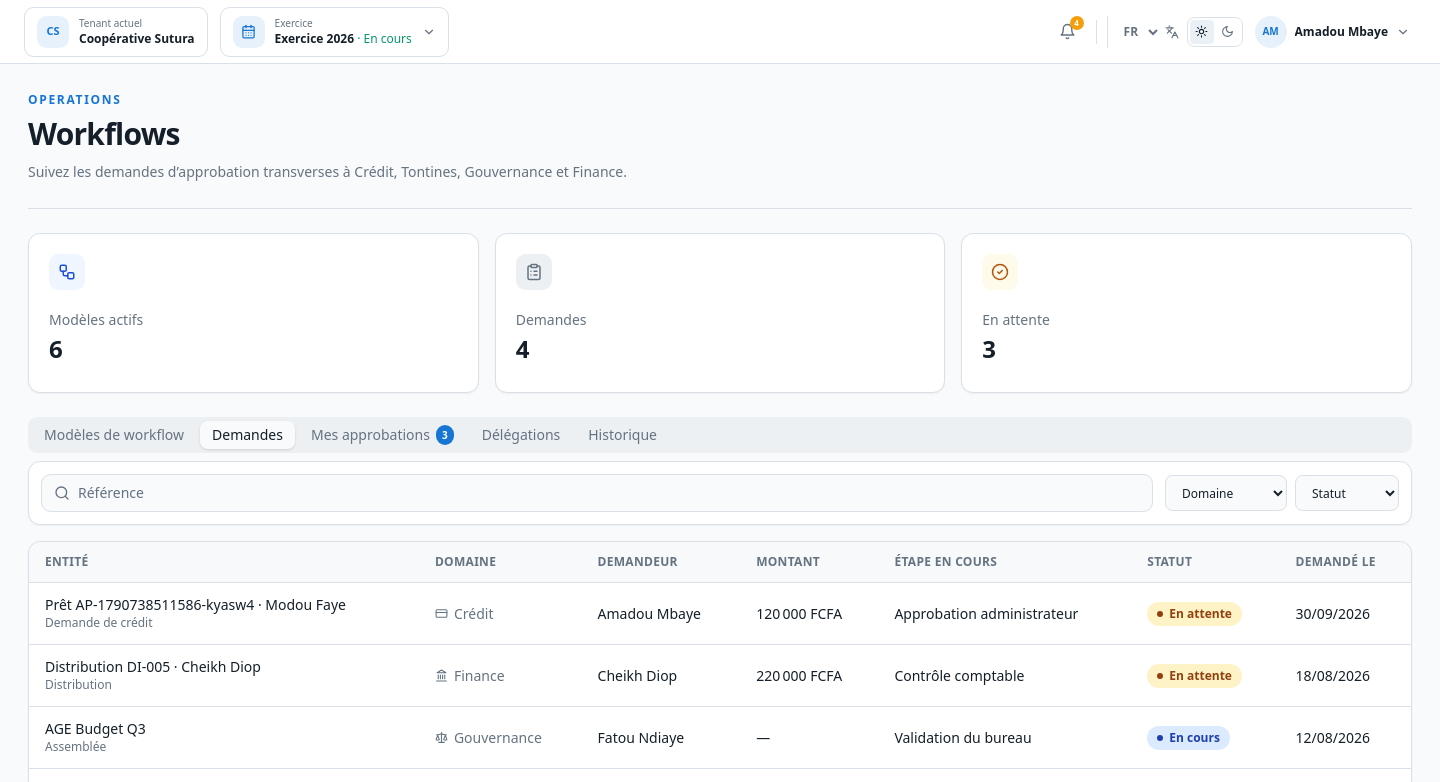
Test case: Demande de prêt → « Mes approbations » de l’approbateur habilité › changement d’identité SANS invalidation atteignant le cache (constaté en navigateur après HMR) : « Mes approbations » suit l’utilisateur
Click the tab "Mes approbations 3" at (382, 435), box [299,421,466,449]
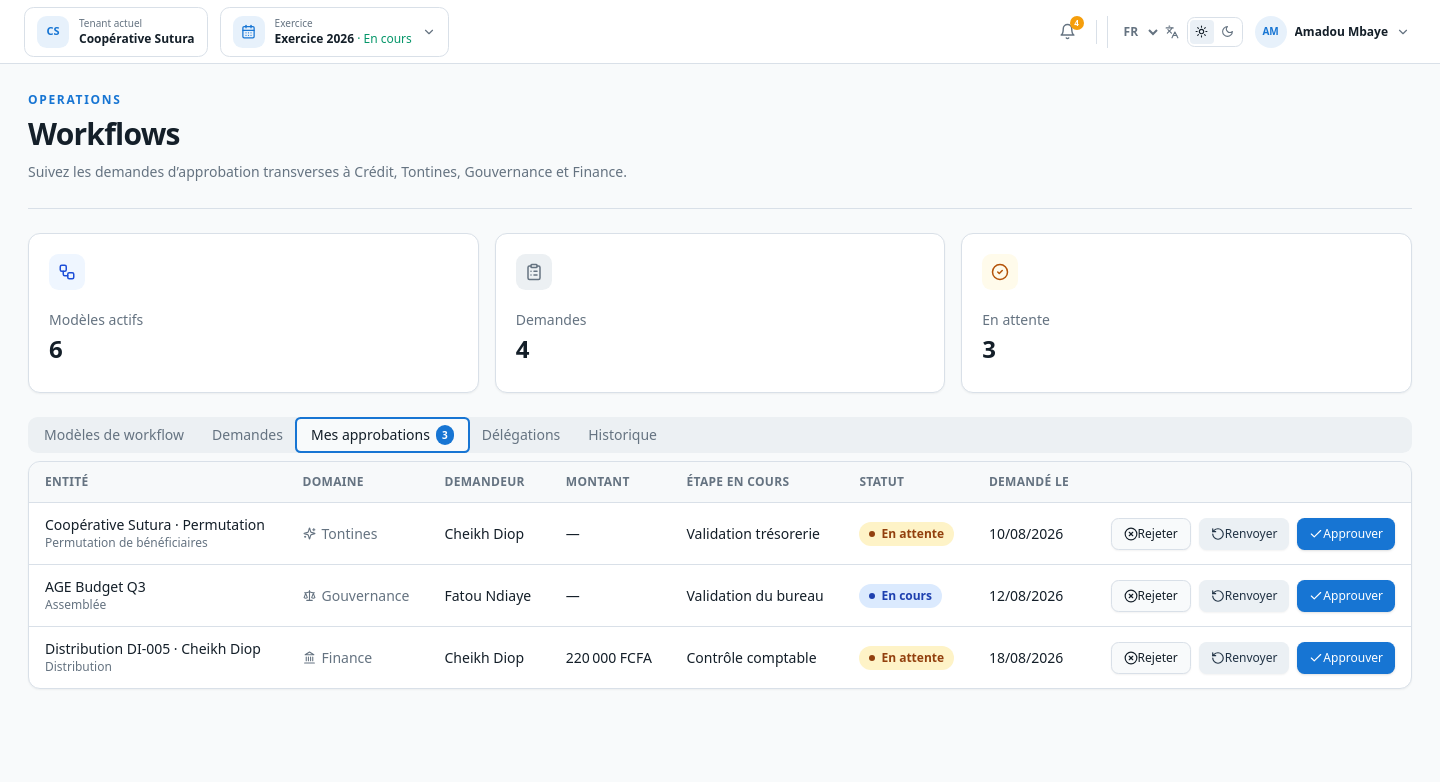
Click the button with aria-label "Menu utilisateur" at (1332, 32), box [1249,10,1416,54]
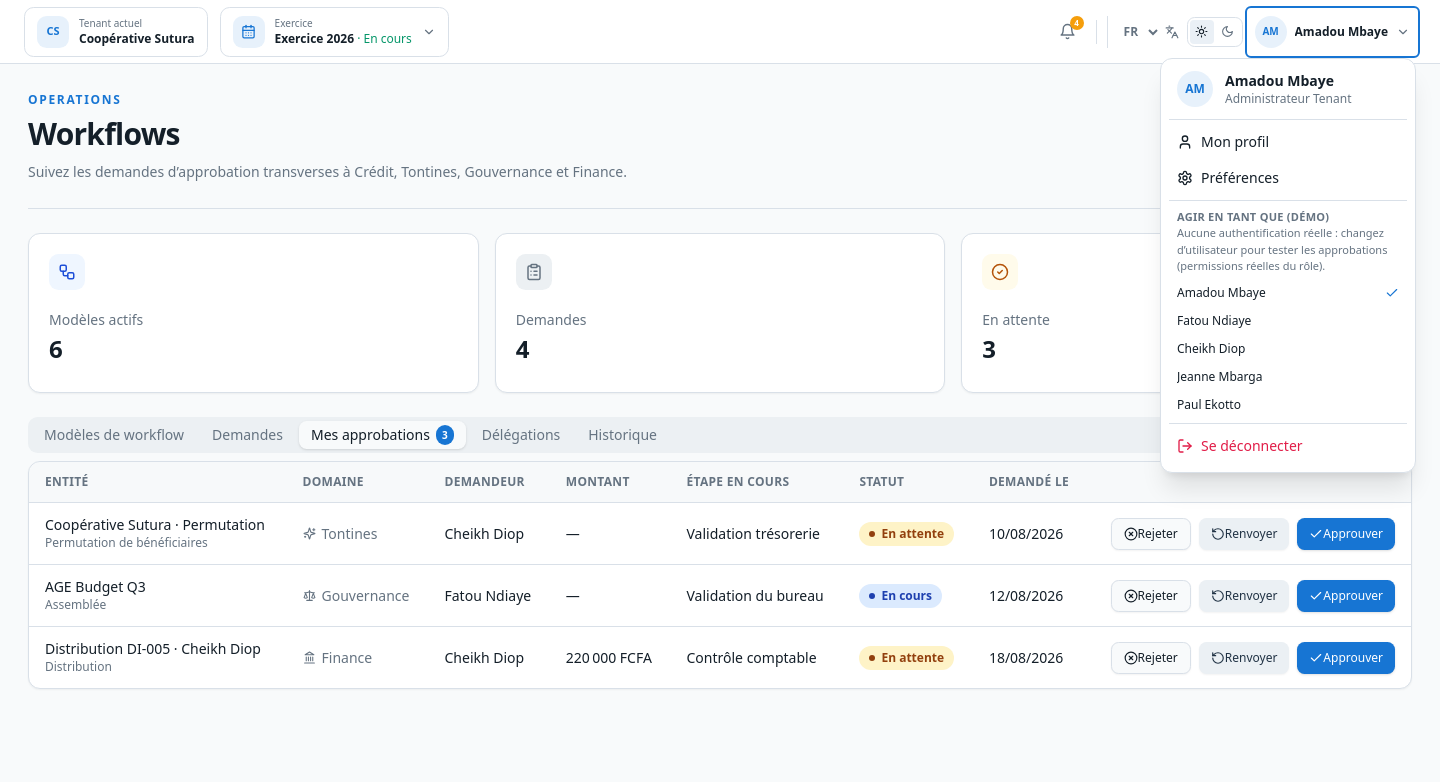
Click the button "Jeanne Mbarga" at (1288, 376), box [1169,362,1407,390]
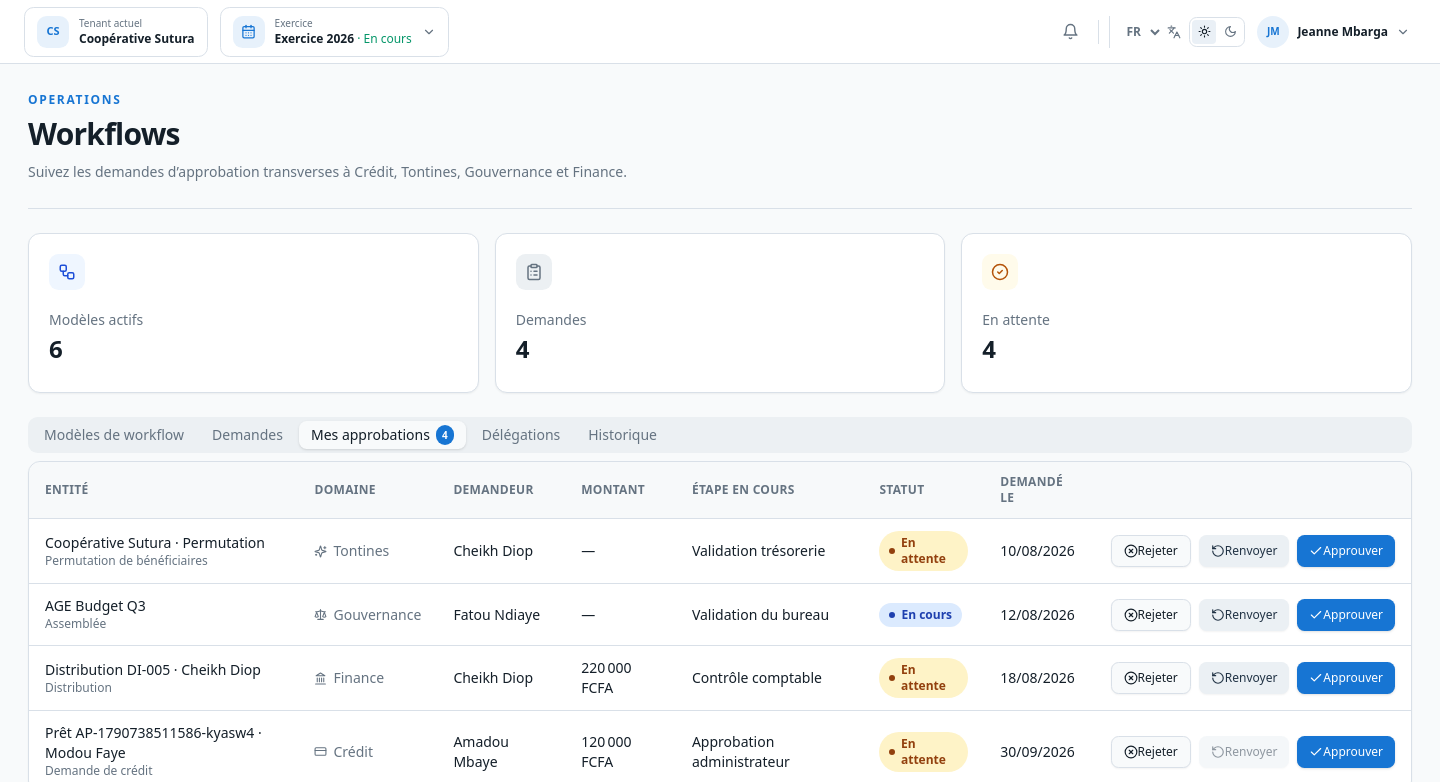
Now the tab "Mes approbations 4" is selected, box [299,421,466,449]
Click the button with aria-label "Menu utilisateur" at (1334, 32), box [1251,10,1416,54]
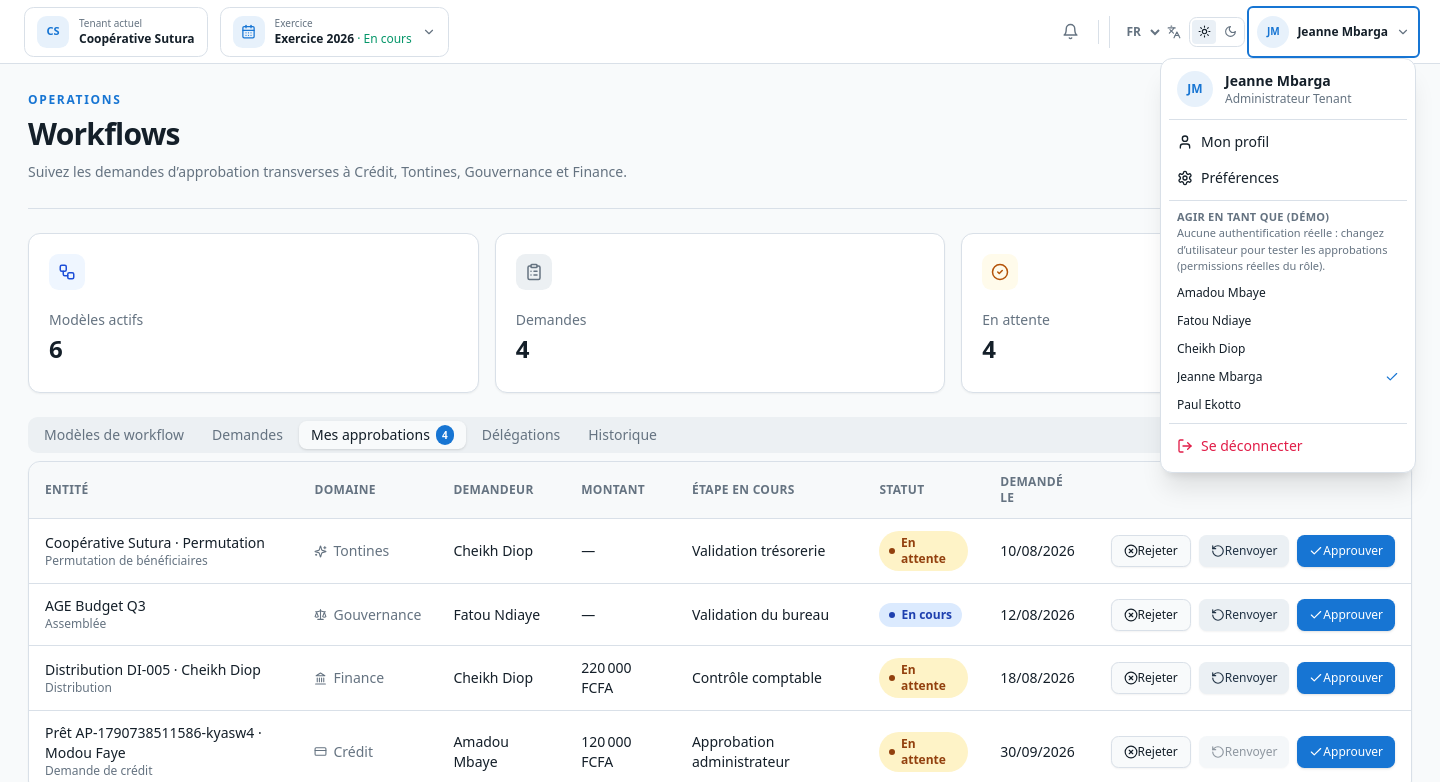
Click the button "Amadou Mbaye" at (1288, 292), box [1169,278,1407,306]
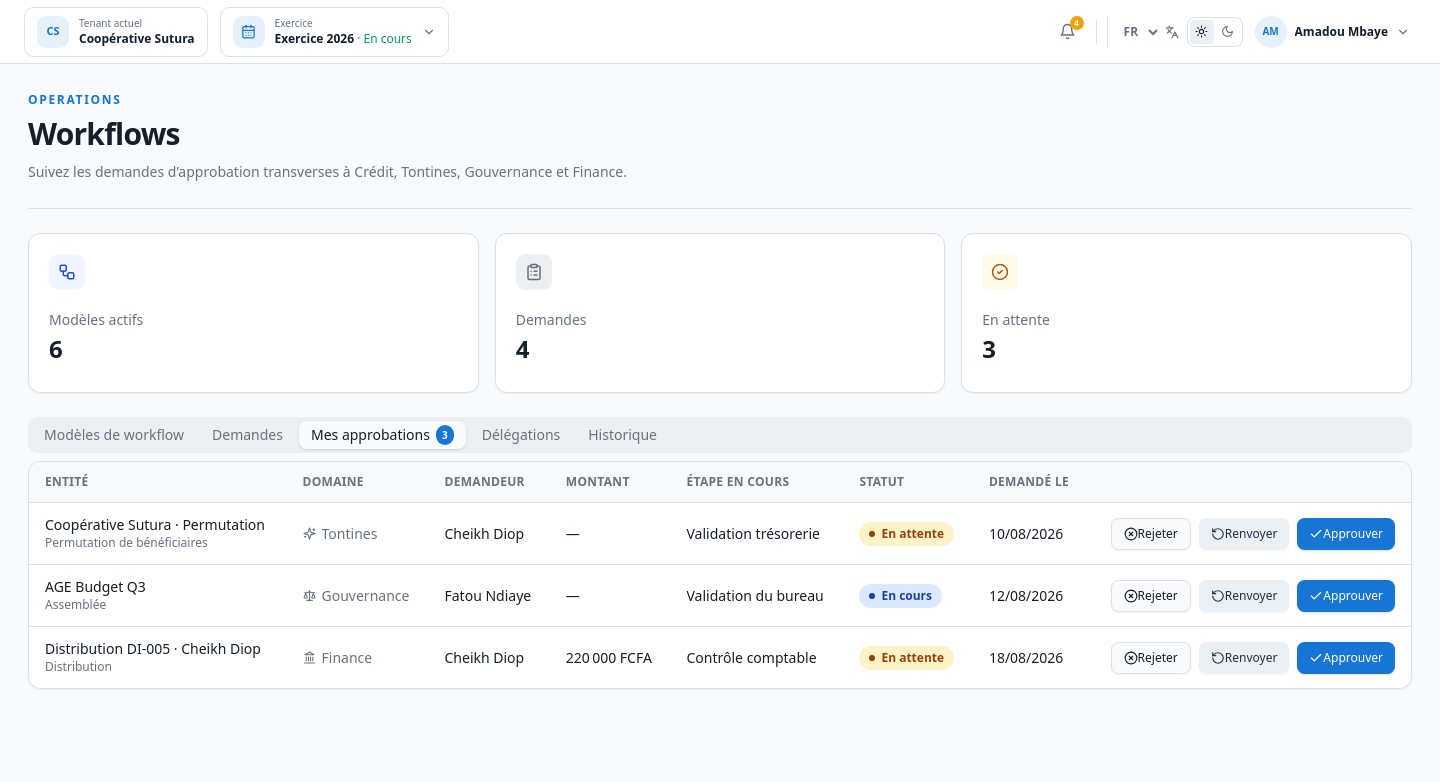
Expected: the text "AGE Budget Q3" is shown, [45,577,146,597]
Now the tab "Mes approbations 3" is selected, box [299,421,466,449]
